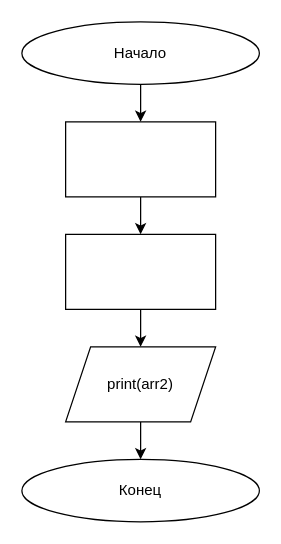
This 281x544 diagram has some shape labels left out. The centre of each missing label's shape, as x and y in pixels:
"arr1 = [randint(1, 100) for _ in range(20)]" belongs at pixel 140 159.
"arr2 = [i for i in range(len(arr1)) if arr1[i] % 2 == 0]" belongs at pixel 140 271.
